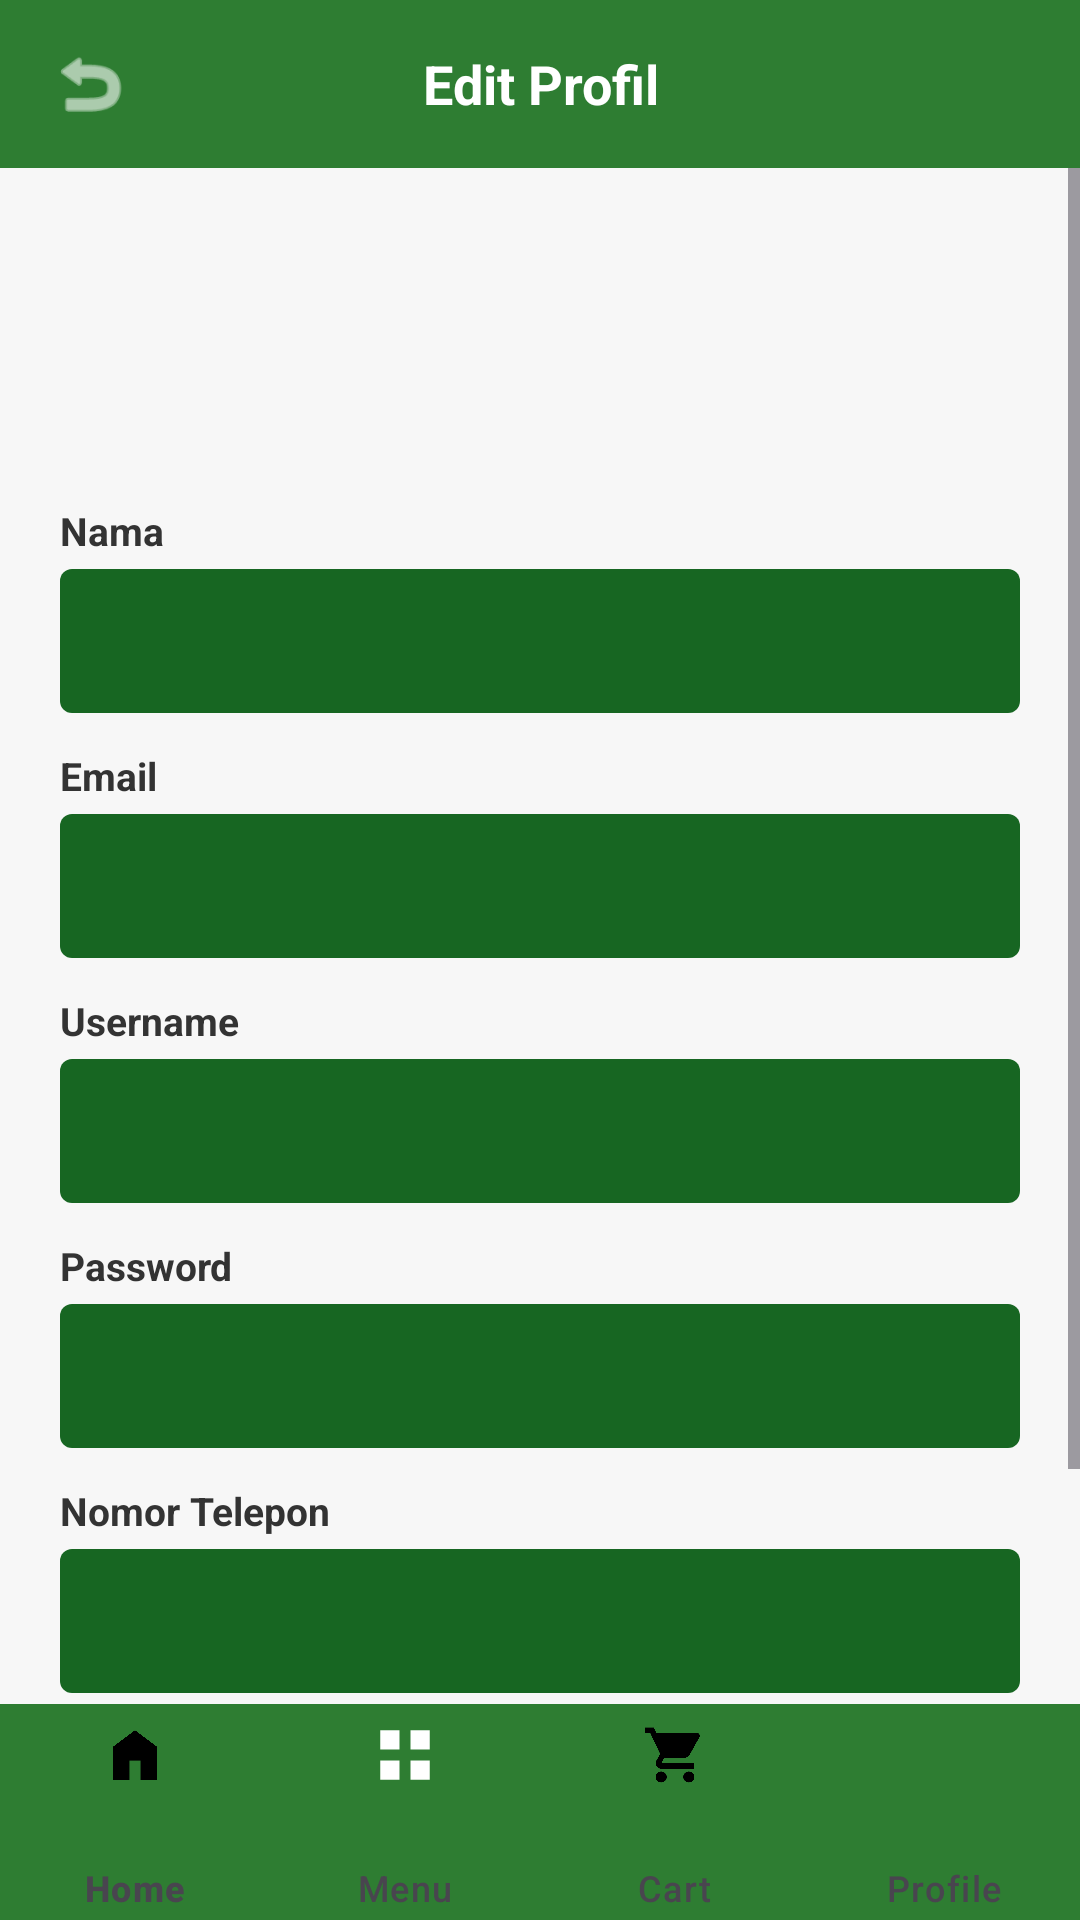

Icon click points for this 1080w x 1920h phone screenshot, format (x=x, y=y):
Kembali: (x=91, y=84)
